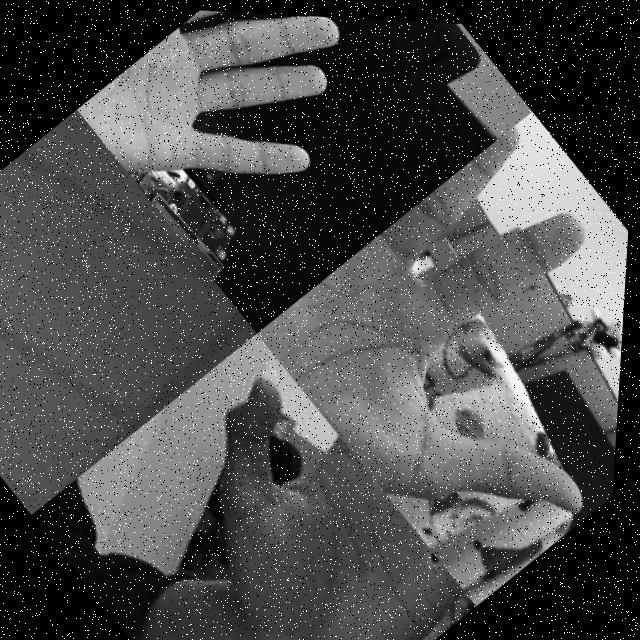no-gloves: (248, 108, 636, 598), (130, 349, 490, 640), (71, 4, 404, 262)
